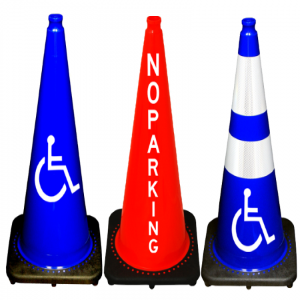traffic cone: (200, 17, 297, 290), (6, 13, 102, 287), (104, 16, 200, 289)
